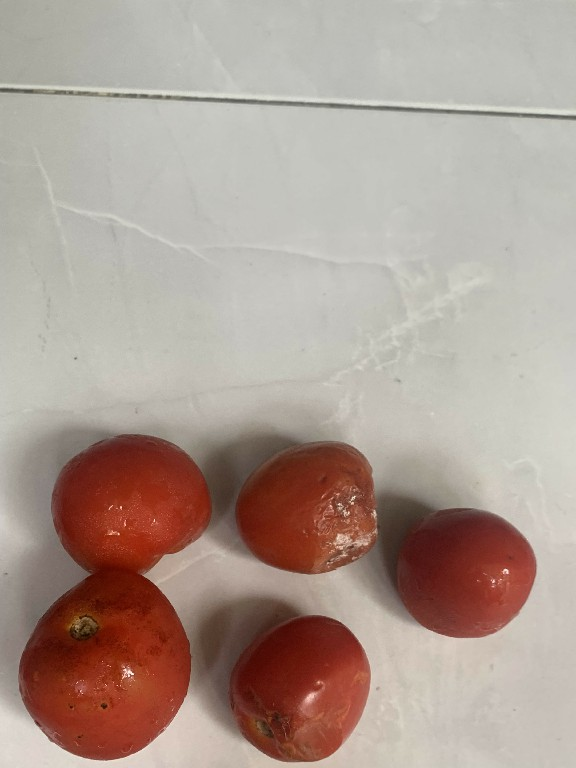NG: (4, 564, 204, 767), (214, 609, 392, 768), (227, 431, 385, 580)
OK: (39, 425, 220, 576), (385, 498, 545, 652)
